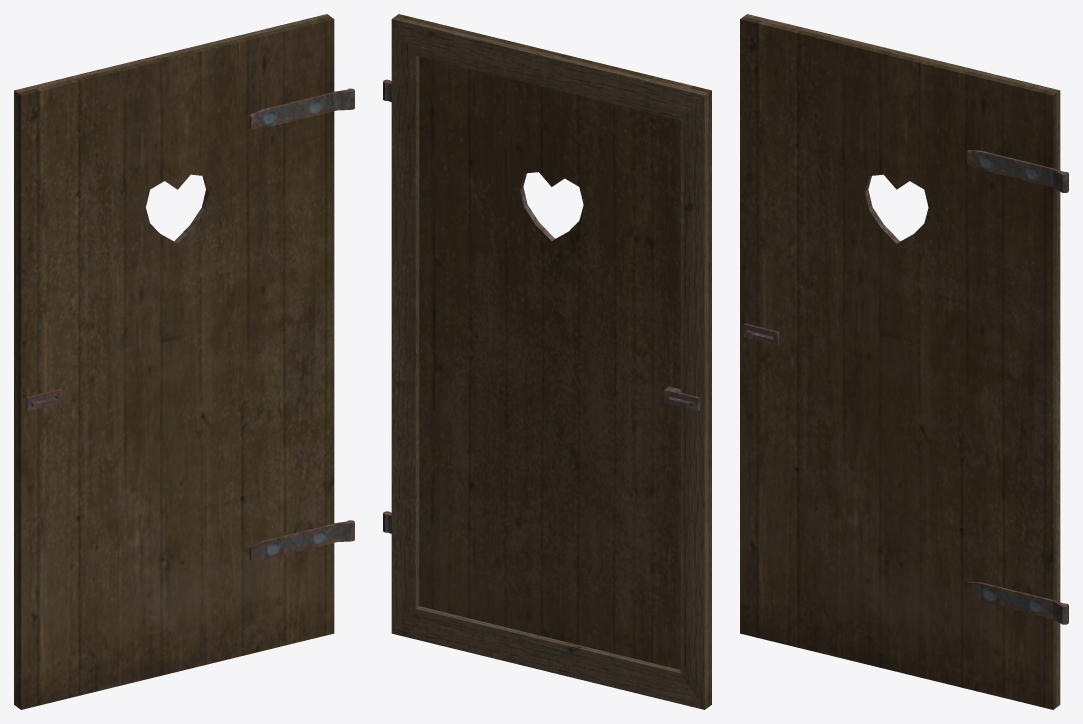
Rendered from toilethousedoor_1.obj.
3 renders of one model, left to right at view 1: azimuth 30°, elevation 25°; view 2: azimuth 150°, elevation 25°; view 3: azimuth 330°, elevation 25°, orthographic.
Visible parts, largest first — view 1: toilethousedoormesh; view 2: toilethousedoormesh; view 3: toilethousedoormesh.
Part boxes in pixels (bbox=[...]): toilethousedoormesh: bbox=[14, 14, 354, 709]; toilethousedoormesh: bbox=[383, 14, 711, 709]; toilethousedoormesh: bbox=[740, 14, 1068, 709].
Size of the model in its own units: 1.35 by 2.4 by 0.1027.
1 material, 1 textured.
